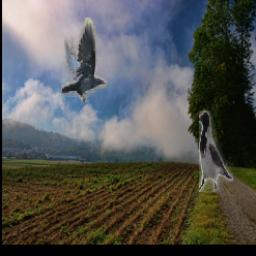Crow: (60, 18, 107, 102), (198, 111, 232, 193)
